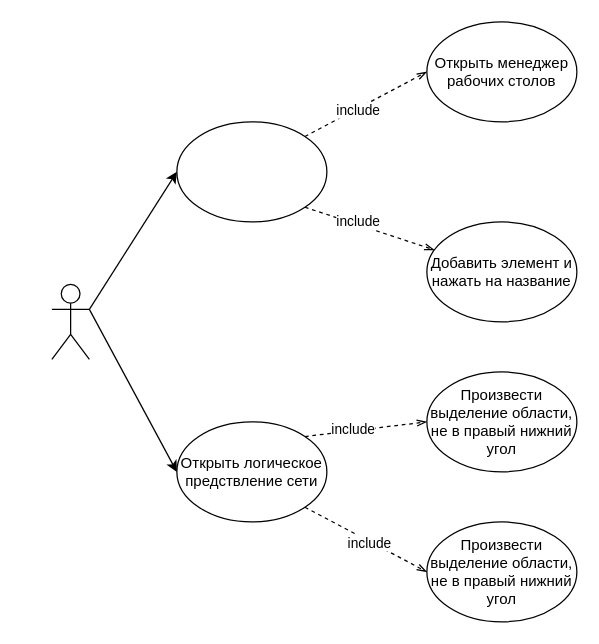
Image size: 599x644. Some labels were removed from this diagram. The box of each missing label's shape, as (x1, y1, x2, y2) in pixels:
Открыть приложение на весь экран: (176, 121, 327, 222)
Пользователь: (51, 283, 89, 359)
